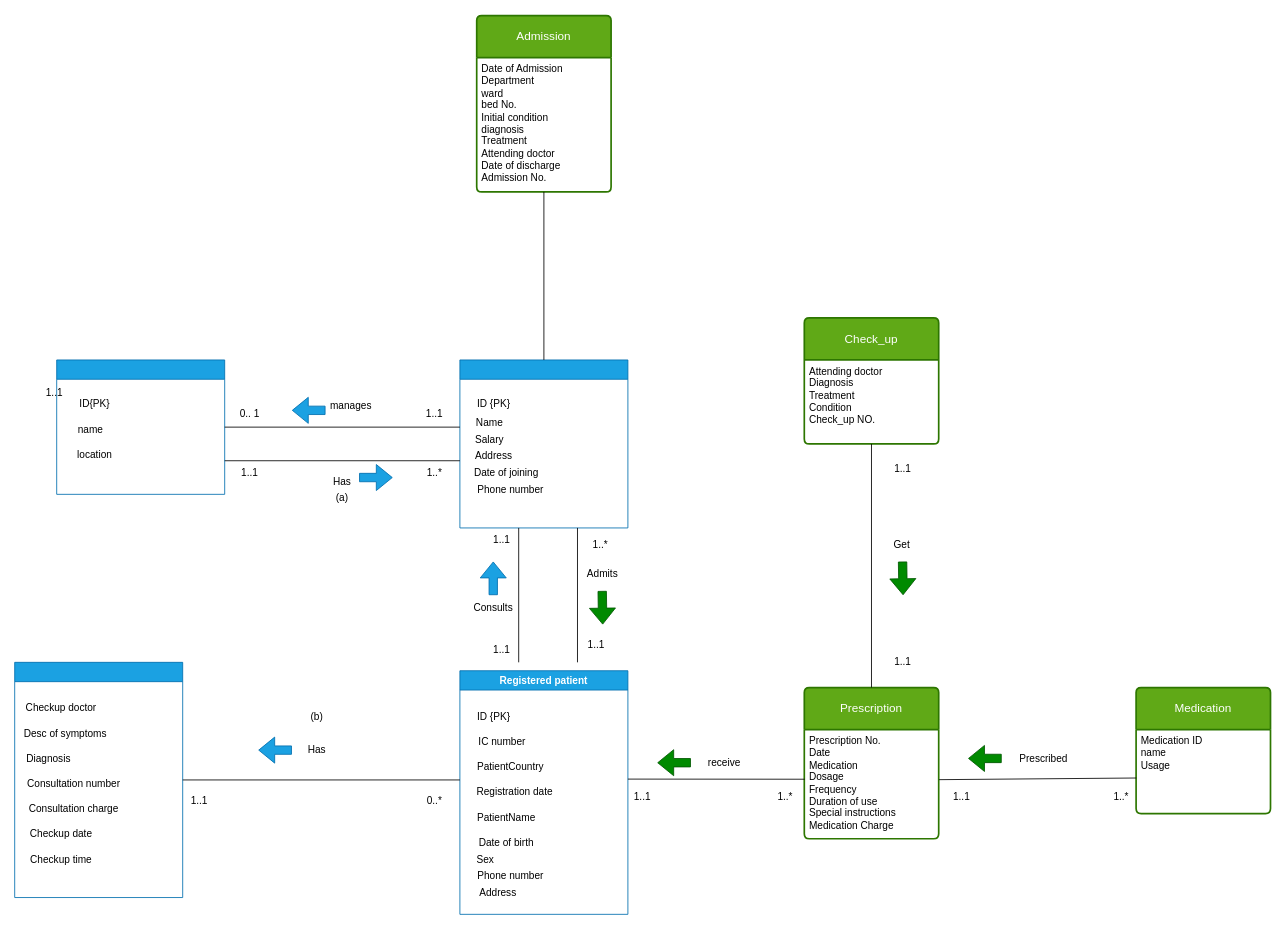
The diagram is 1286 pixels wide and 929 high, and some of its shapes have lost their labels. Each missing label, with the box of its shape:
Consultation record: (14, 662, 183, 898)
Department: (56, 359, 225, 494)
Doctor: (459, 359, 628, 528)
